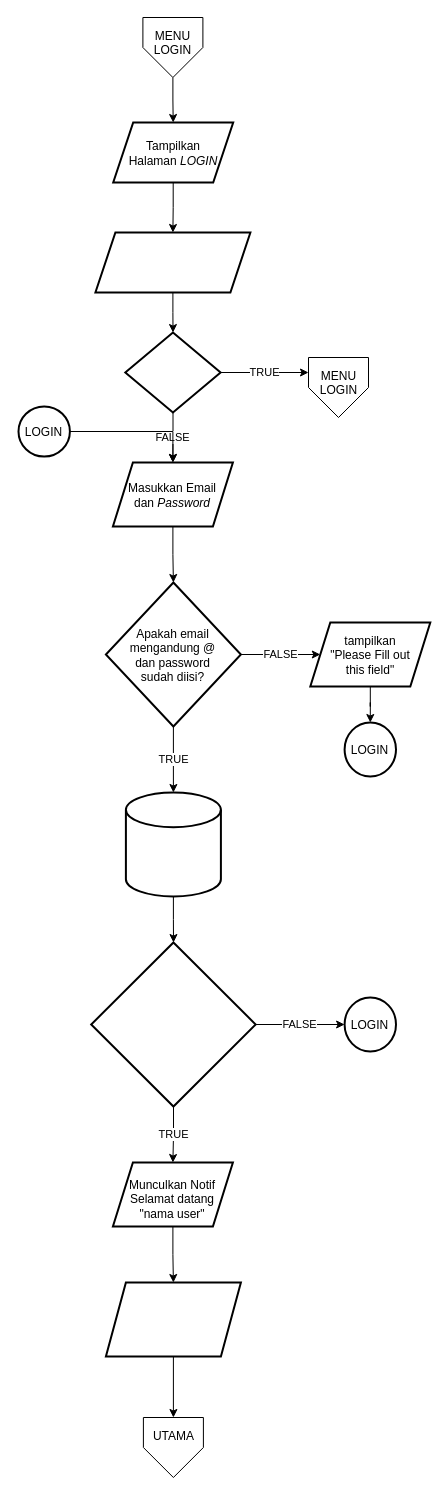
This 448x1495 diagram has some shape labels left out. Each missing label, with the centre of its shape:
Ambil data dari tabel Users: (x=172, y=844)
Apakah email dan password sesuai dengan data yang ada di database?: (x=173, y=1024)
Apakah ingin daftar akun?: (x=172, y=372)
Tampilkan "Belum Punya Akun? Daftar Sekarang": (x=172, y=262)
Tampilkan Halaman Dashboard Utama: (x=172, y=1319)
